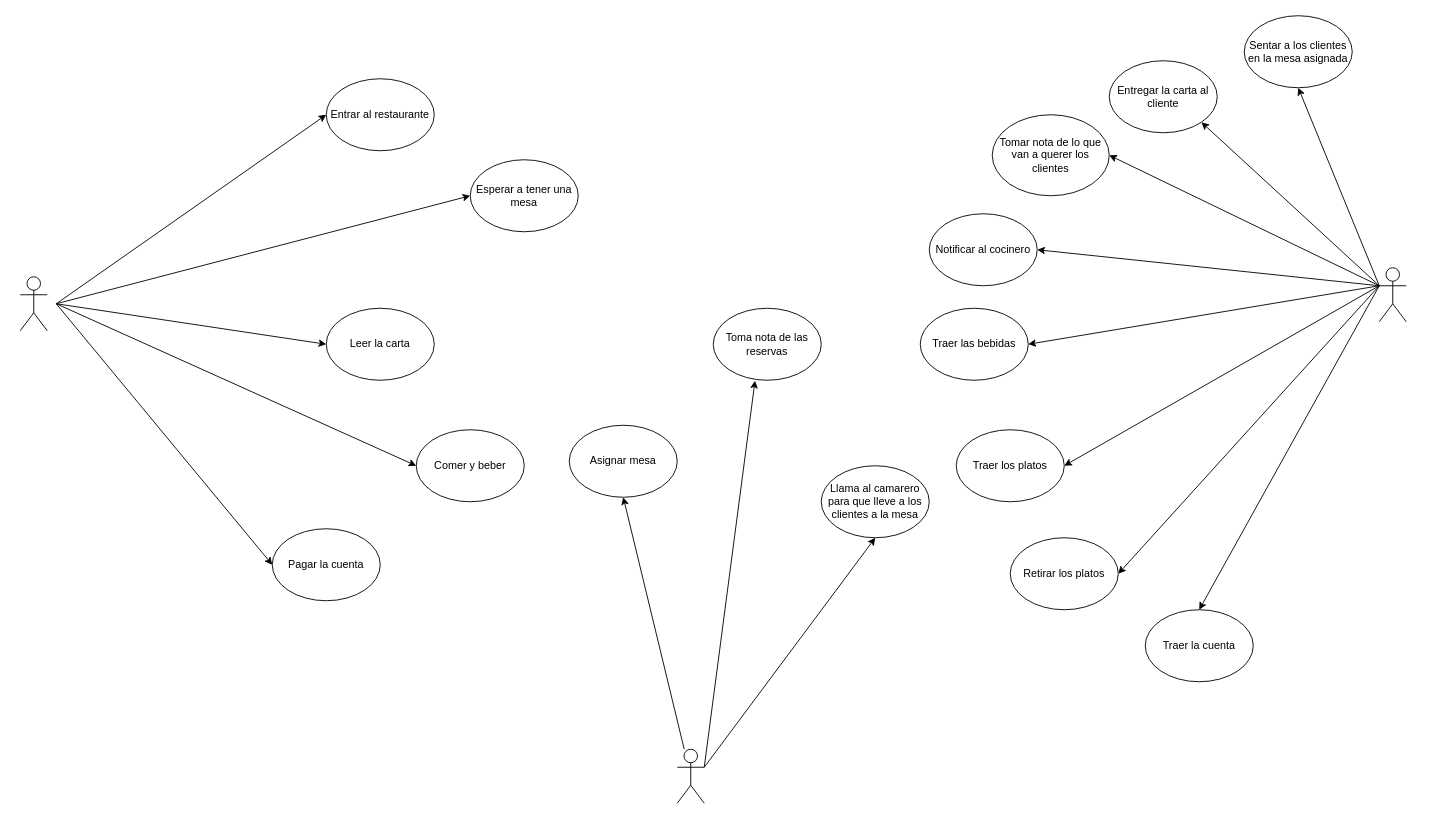
Image size: 1433x838. Some labels were removed from this diagram. The centre of each missing label's shape, as x and y in pixels:
"Camarero" goes at point (1392, 294).
"Cliente" goes at point (33, 303).
"Encargado" goes at point (690, 775).
